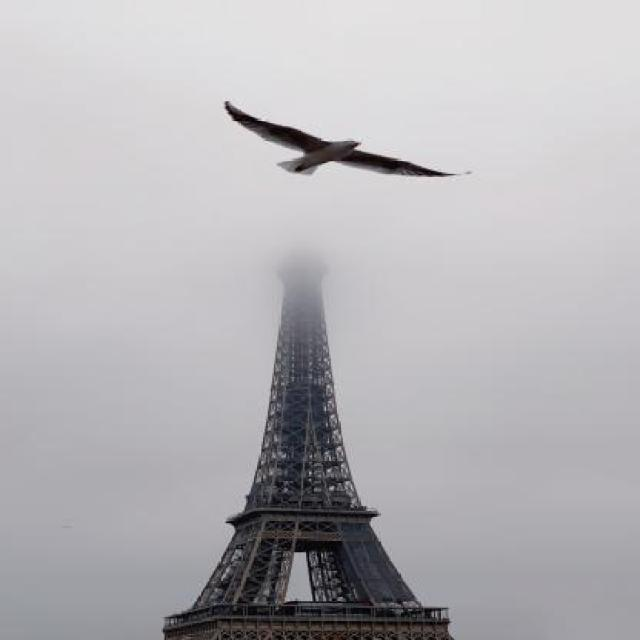bird: (220, 98, 478, 178)
